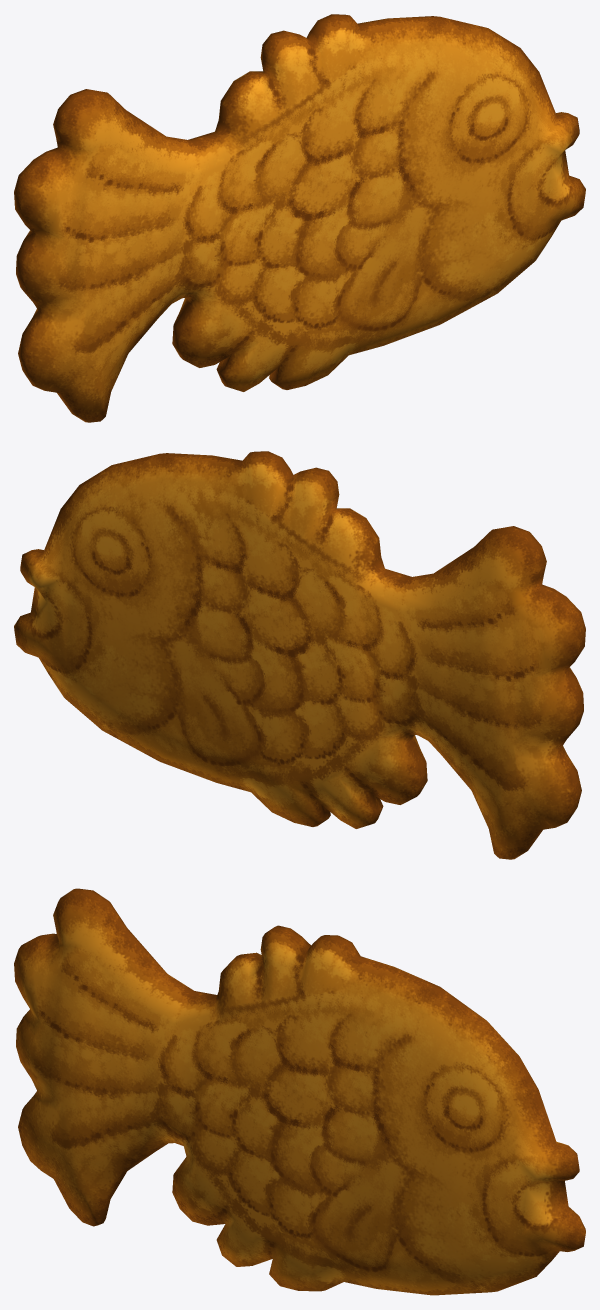
File: fish_shaped_bun.glb
3 renders of one model, top to bottom at view 1: azimuth 30°, elevation 25°; view 2: azimuth 150°, elevation 25°; view 3: azimuth 330°, elevation 25°, orthographic.
Parts seen in each view (by area): view 1: fish_shaped_bun; view 2: fish_shaped_bun; view 3: fish_shaped_bun.
Part boxes in pixels (box(x1,y1,x2,y2)): fish_shaped_bun: box(14, 14, 585, 422); fish_shaped_bun: box(14, 451, 585, 859); fish_shaped_bun: box(14, 888, 585, 1295).
Bounding box in the file's own units: 144 × 87.19 × 10.99.
1 material, 1 textured.
